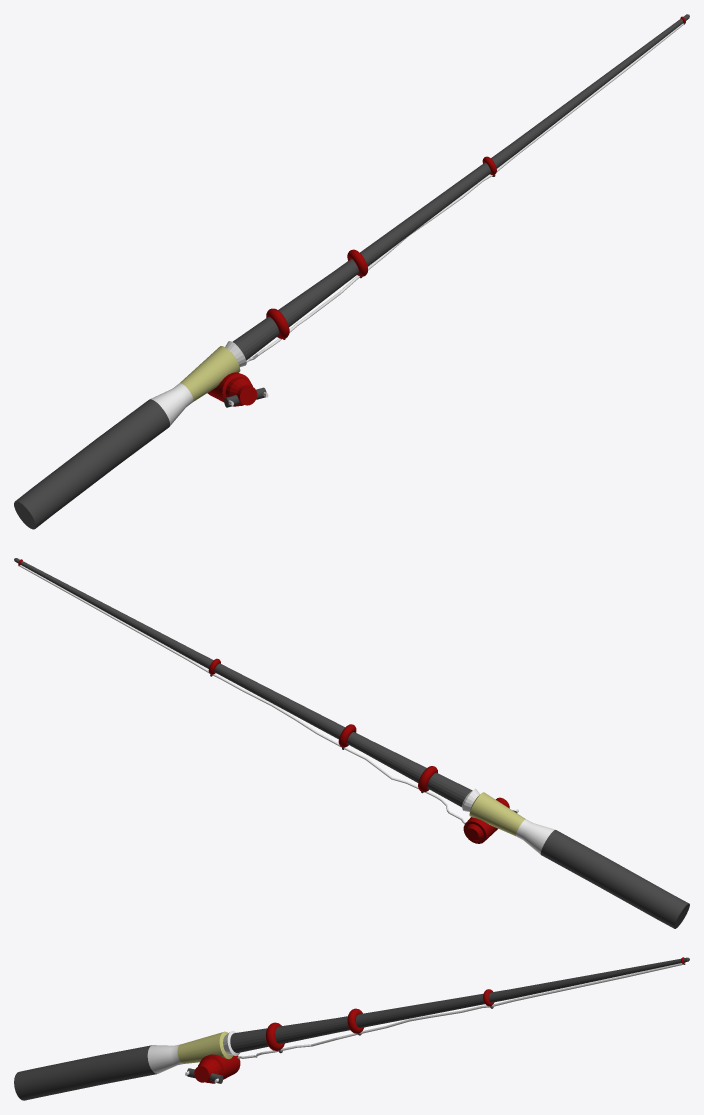
Rendered from Fishing Rod (No Cast Line).fbx.
The picture shows the model from 3 angles, top to bottom: view 1: azimuth 30°, elevation 25°; view 2: azimuth 150°, elevation 25°; view 3: azimuth 330°, elevation 25°; orthographic projection. The views are drawn at different scales.
Parts seen in each view (by area): view 1: Line1; view 2: Line1; view 3: Line1.
Part boxes in pixels (x1,y1,x2,y2): Line1: (14, 14, 689, 529); Line1: (14, 558, 689, 928); Line1: (14, 957, 689, 1100).
Bounding box in the file's own units: 3.67 × 1.44 × 0.5845.
